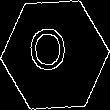O_S: (34, 28, 76, 82)
